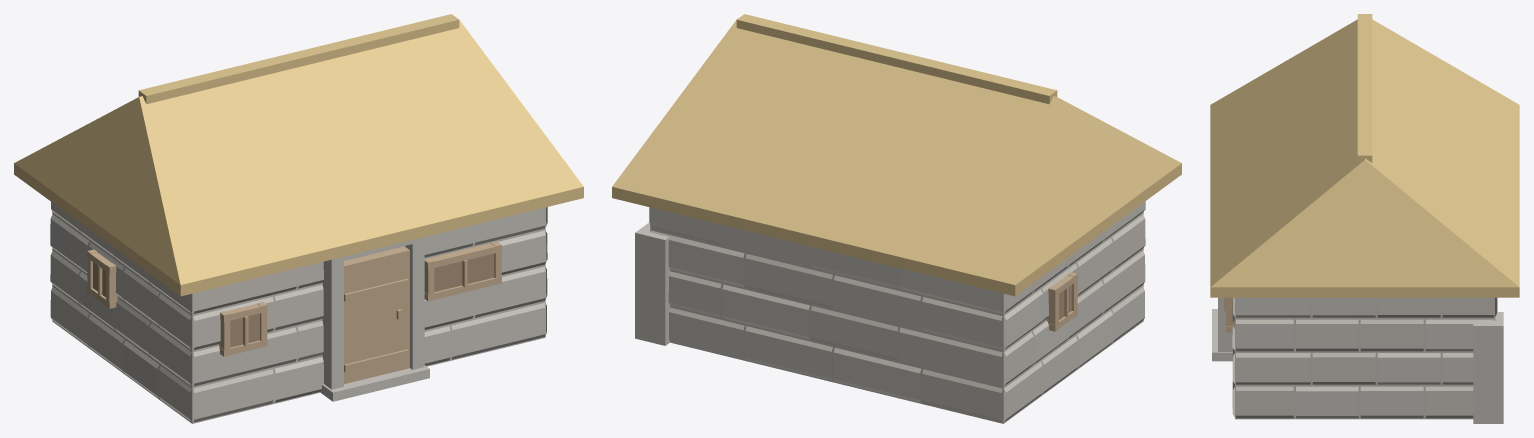
The model's file is stone-house.glb.
3 views of the same model, side by side, from view 1: azimuth 30°, elevation 25°; view 2: azimuth 150°, elevation 25°; view 3: azimuth 270°, elevation 25° (orthographic). The views are drawn at different scales.
Parts seen in each view (by area): view 1: stone-house_roof, stone-house_stone, stone-house_door, stone-house_wood, stone-house_window; view 2: stone-house_roof, stone-house_stone, stone-house_wood; view 3: stone-house_roof, stone-house_stone, stone-house_wood.
Boxes of the visible parts, x1=… form: stone-house_roof: x1=14, y1=14, x2=583, y2=296; stone-house_stone: x1=50, y1=202, x2=547, y2=423; stone-house_door: x1=344, y1=246, x2=409, y2=384; stone-house_wood: x1=87, y1=241, x2=501, y2=356; stone-house_window: x1=93, y1=253, x2=494, y2=347; stone-house_roof: x1=612, y1=14, x2=1181, y2=296; stone-house_stone: x1=635, y1=201, x2=1145, y2=423; stone-house_wood: x1=1047, y1=272, x2=1077, y2=331; stone-house_roof: x1=1210, y1=14, x2=1519, y2=297; stone-house_stone: x1=1212, y1=297, x2=1503, y2=423; stone-house_wood: x1=1224, y1=297, x2=1234, y2=332.
Size of the model in its own units: 1.99 by 1.3 by 1.43.
